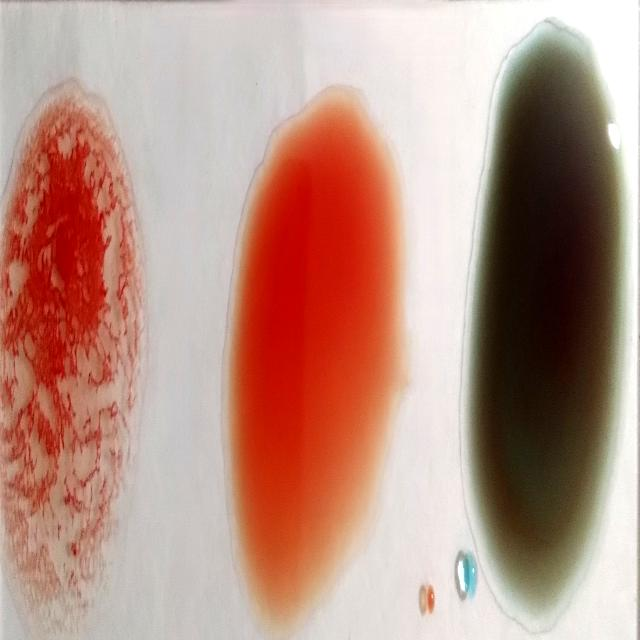D: (8, 82, 138, 636)
